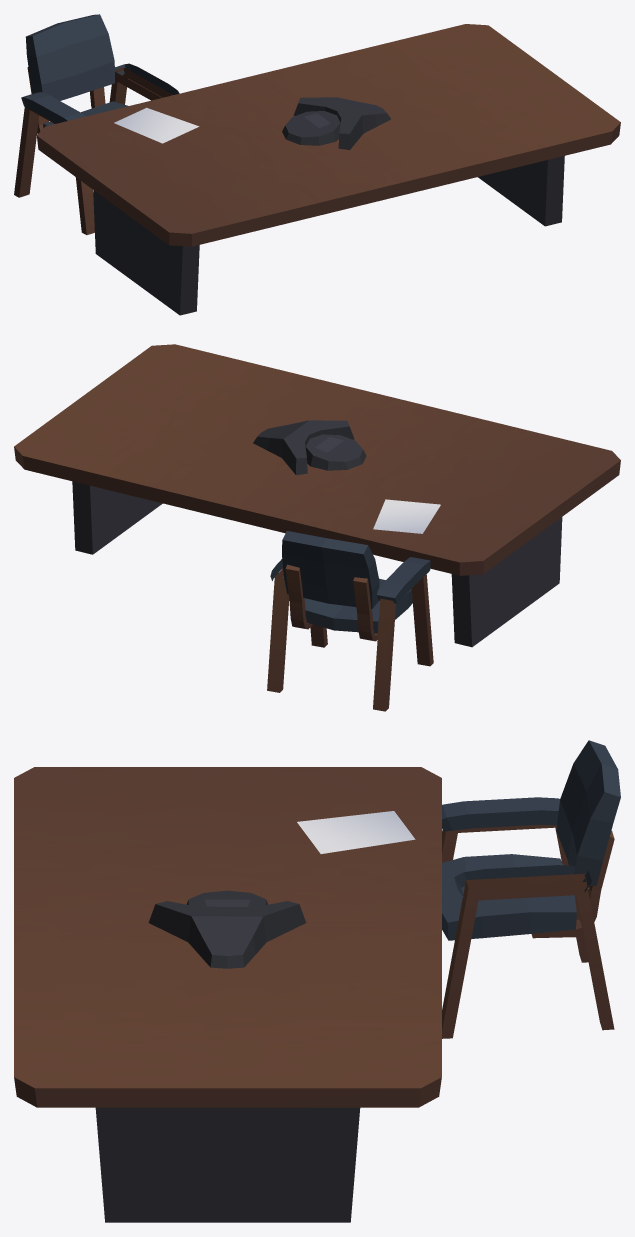
Rendered from CMS_TableSigning_Revised.fbx.
3 views of the same model, one above another, from view 1: azimuth 30°, elevation 25°; view 2: azimuth 150°, elevation 25°; view 3: azimuth 270°, elevation 25° (orthographic). The views are drawn at different scales.
Visible parts, largest first — view 1: TableSigning; view 2: TableSigning; view 3: TableSigning.
Boxes of the visible parts, left/top/right/bottom form: TableSigning: left=14, top=14, right=620, bottom=315; TableSigning: left=14, top=344, right=620, bottom=711; TableSigning: left=14, top=740, right=620, bottom=1222.
Bounding box in the file's own units: 1654 × 548 × 1320.
